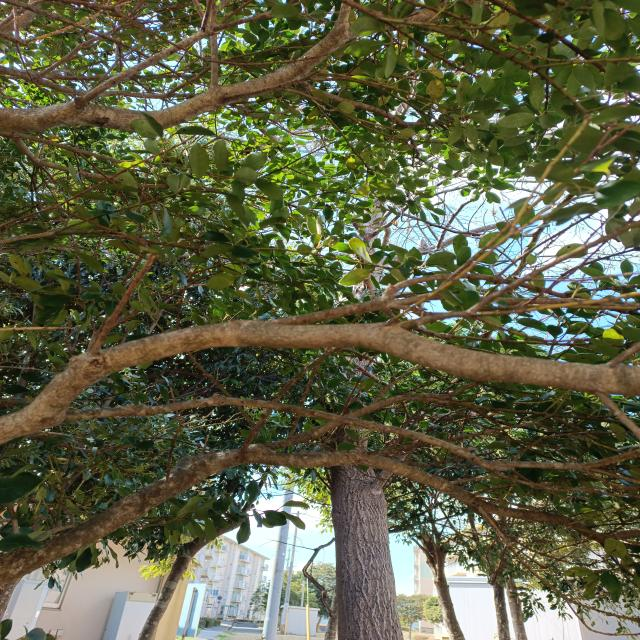Branch: (0, 321, 640, 439), (28, 445, 635, 569), (0, 0, 361, 134)
Twig: (56, 395, 640, 472), (398, 224, 634, 328), (82, 13, 269, 98), (285, 272, 572, 324), (297, 82, 509, 128), (208, 34, 218, 86), (200, 0, 211, 29)
